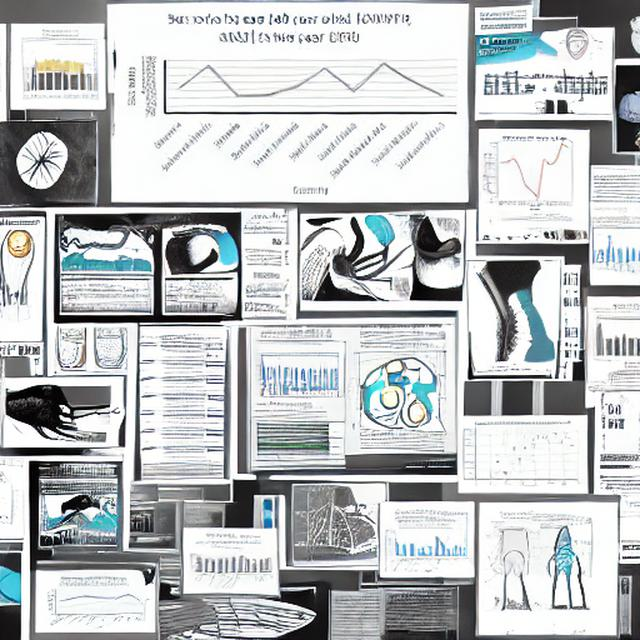Graph: (116, 4, 465, 200), (460, 419, 585, 491), (481, 131, 586, 210), (43, 574, 144, 632), (185, 540, 273, 592), (384, 520, 460, 575)
